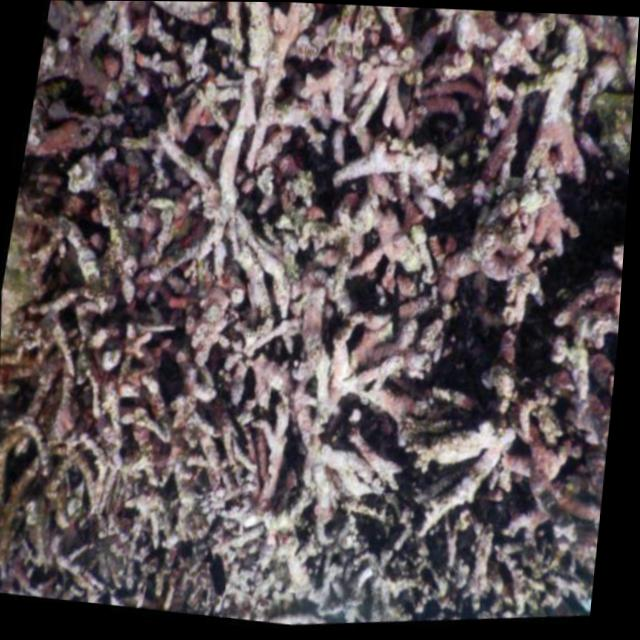Dead Coral: (15, 4, 616, 585)
